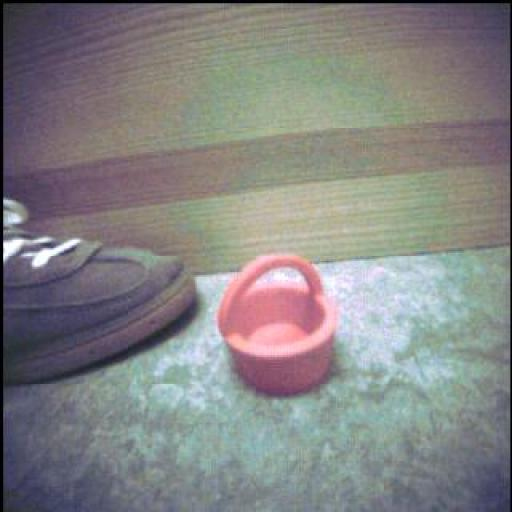Bucket: (206, 260, 354, 402)
